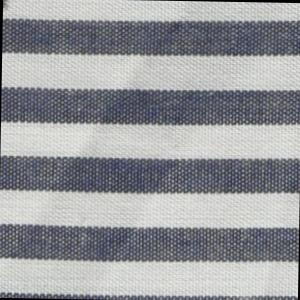Wrinkle: (17, 9, 216, 300)
